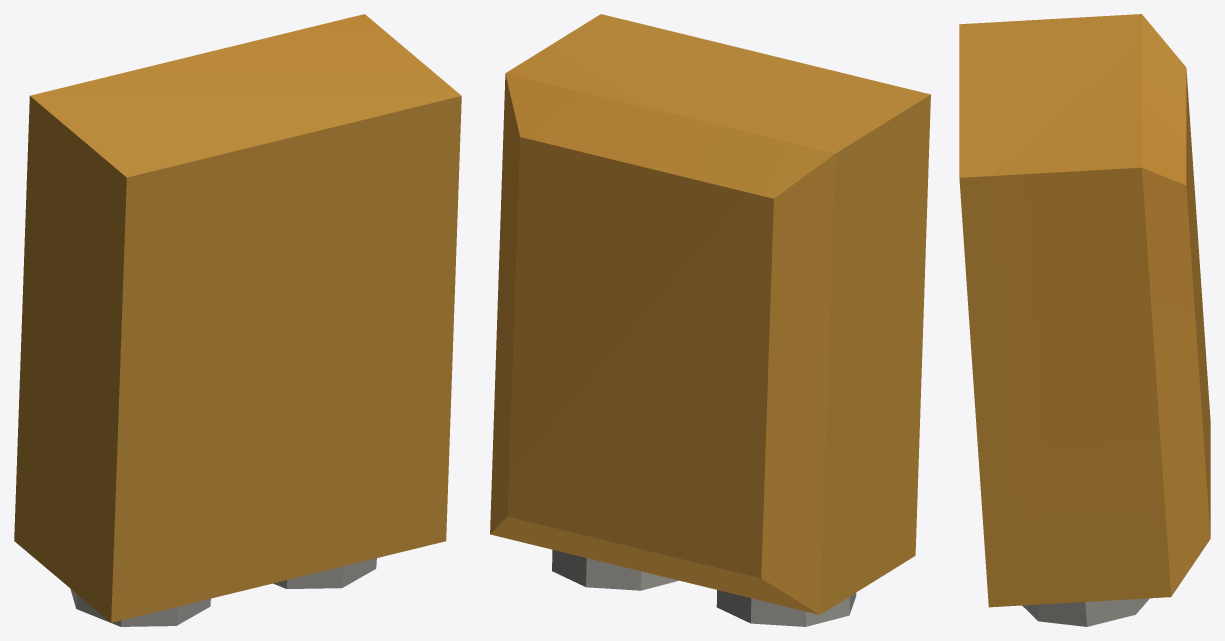
File: jetpack.glb
3 views of the same model, side by side, from view 1: azimuth 30°, elevation 25°; view 2: azimuth 150°, elevation 25°; view 3: azimuth 270°, elevation 25° (orthographic). The views are drawn at different scales.
Parts seen in each view (by area): view 1: Jetpack Base, Outer Boosters; view 2: Jetpack Base, Outer Boosters; view 3: Jetpack Base, Outer Boosters.
Part boxes in pixels (left/top/right/bottom): Jetpack Base: left=14, top=14, right=461, bottom=622; Outer Boosters: left=70, top=558, right=376, bottom=626; Jetpack Base: left=490, top=14, right=930, bottom=614; Outer Boosters: left=552, top=549, right=856, bottom=626; Jetpack Base: left=959, top=14, right=1210, bottom=607; Outer Boosters: left=1022, top=598, right=1149, bottom=626.
Bounding box in the file's own units: 0.5964 × 0.858 × 0.4119.
